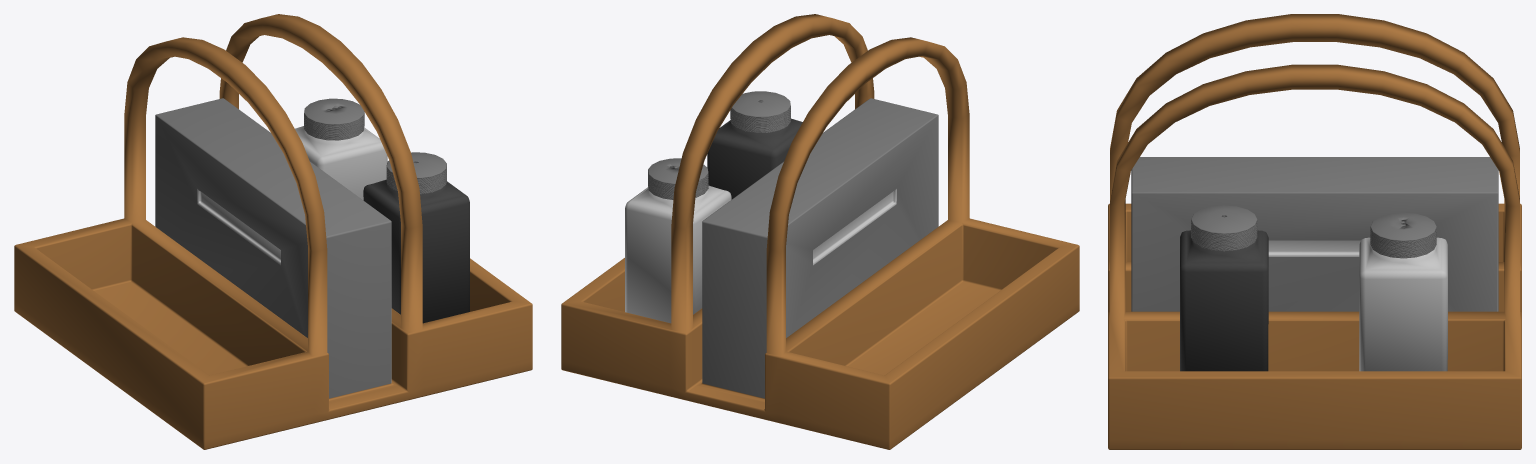
The model's file is peçetelik.fbx.
3 views of the same model, side by side, from view 1: azimuth 30°, elevation 25°; view 2: azimuth 150°, elevation 25°; view 3: azimuth 270°, elevation 25° (orthographic). The views are drawn at different scales.
Parts seen in each view (by area): view 1: Cube; view 2: Cube; view 3: Cube.
Boxes of the visible parts, x1,y1,x2,y2 form: Cube: (14, 14, 532, 449); Cube: (561, 14, 1079, 449); Cube: (1108, 14, 1521, 449).
Bounding box in the file's own units: 0.3802 × 0.3232 × 0.3802.
